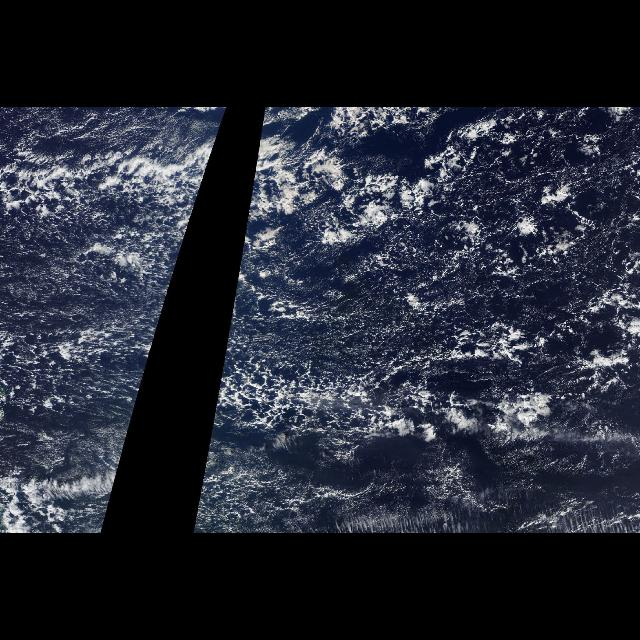Fish: (7, 132, 222, 220), (247, 132, 346, 220)
Gravel: (209, 120, 639, 447), (2, 160, 210, 446)
Sugar: (2, 214, 136, 392), (8, 109, 195, 149), (7, 420, 132, 472)
